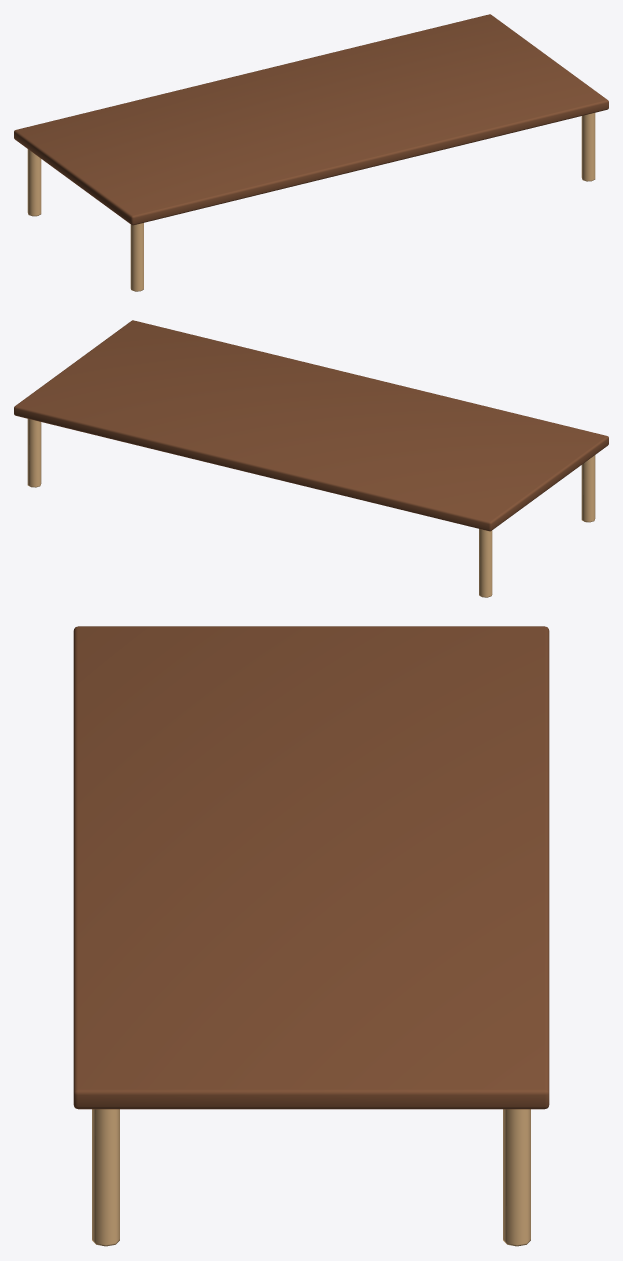
File: desk.fbx
The picture shows the model from 3 angles, top to bottom: view 1: azimuth 30°, elevation 25°; view 2: azimuth 150°, elevation 25°; view 3: azimuth 270°, elevation 25°; orthographic projection. The views are drawn at different scales.
Parts seen in each view (by area): view 1: Cube; view 2: Cube; view 3: Cube.
Part boxes in pixels (x1,y1,x2,y2): Cube: (14, 14, 608, 291); Cube: (14, 320, 608, 597); Cube: (73, 626, 549, 1246).
Bounding box in the file's own units: 692 × 112 × 298.
